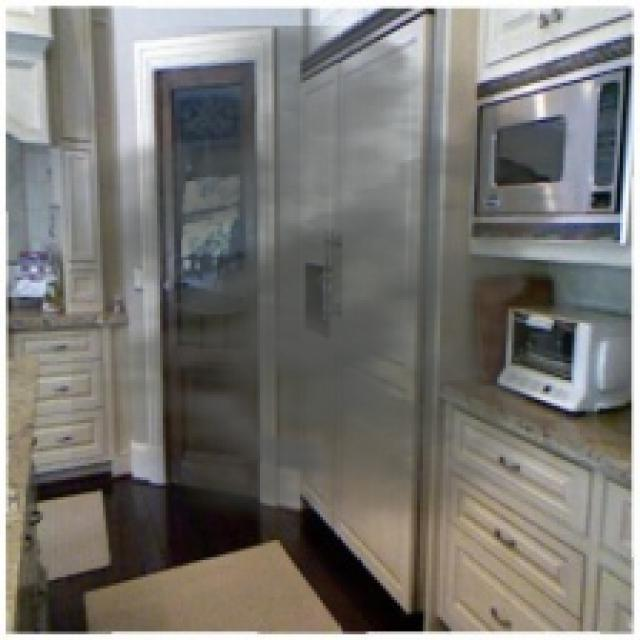Smoke: (71, 26, 628, 560)
